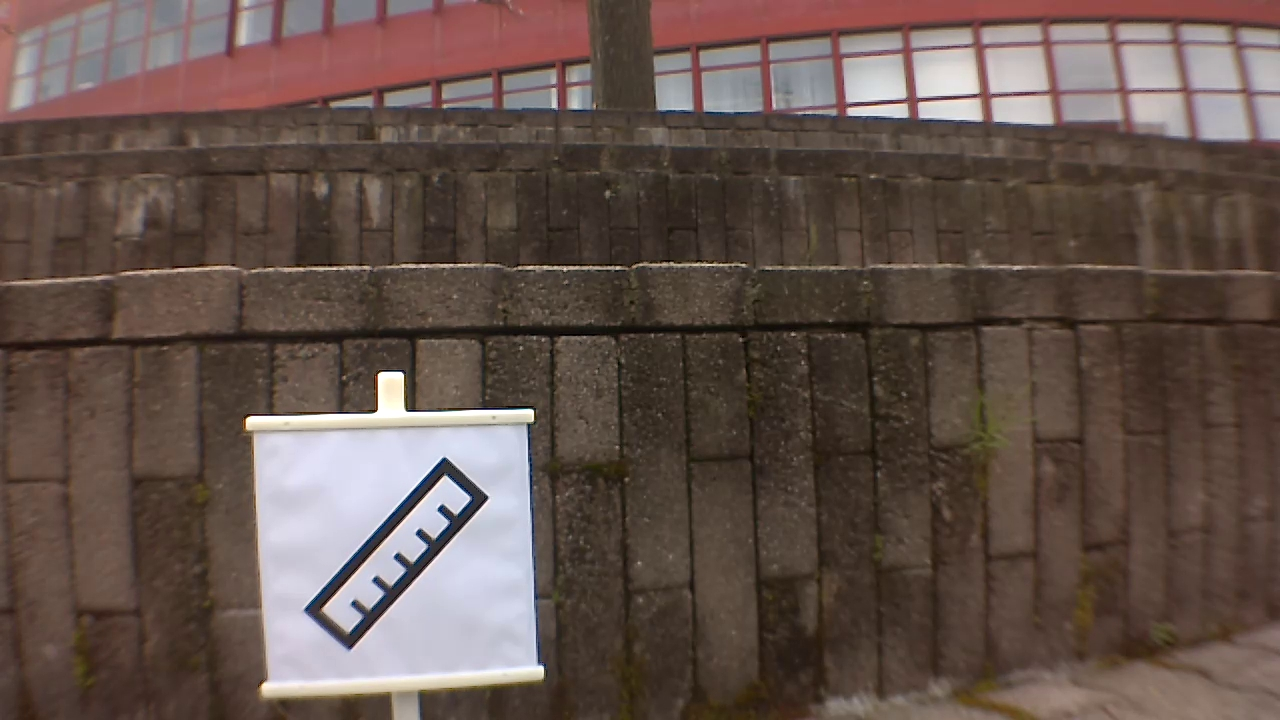ruler: (301, 456, 493, 652)
